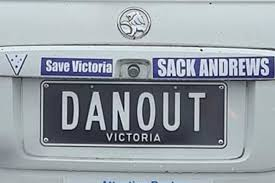number_plate: (37, 79, 233, 150)
